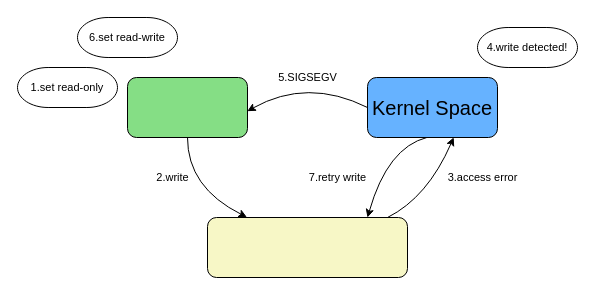
This 595x295 diagram has some shape labels left out. Here are the shapes that lost their labels. From the top down, the centre of each, then its label:
the point at 187,107: User Space
the point at 307,247: MEMORY
